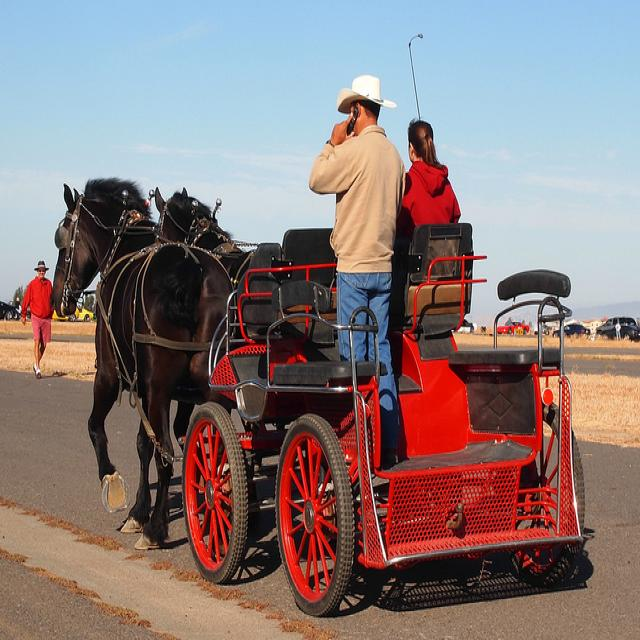Vehicle: (597, 316, 640, 340), (52, 308, 94, 322), (552, 324, 590, 338), (494, 320, 530, 334)
